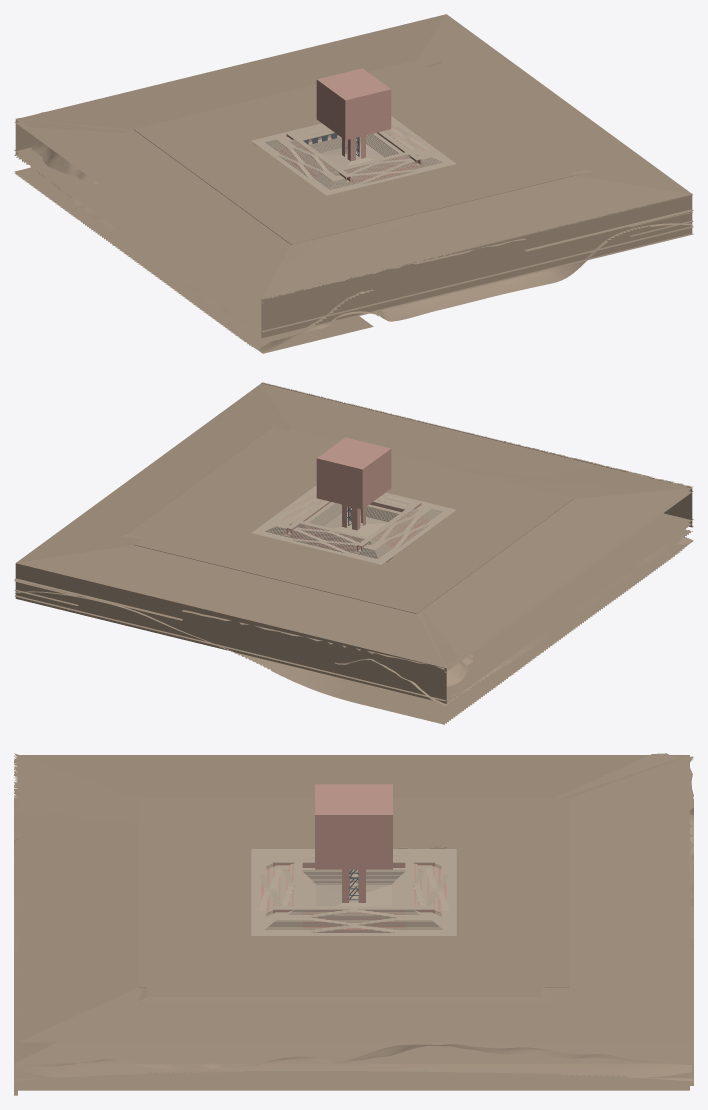
The model's file is museum-study-3.glb.
3 views of the same model, one above another, from view 1: azimuth 30°, elevation 25°; view 2: azimuth 150°, elevation 25°; view 3: azimuth 270°, elevation 25° (orthographic). The views are drawn at different scales.
Visible parts, largest first — view 1: ground:Landscape, project:Stone, project:Warm plaster; view 2: ground:Landscape, project:Stone, project:Warm plaster; view 3: ground:Landscape, project:Stone, project:Warm plaster.
Boxes of the visible parts, x1,y1,x2,y2 form: ground:Landscape: (14, 14, 693, 353); project:Stone: (251, 116, 456, 195); project:Warm plaster: (279, 68, 427, 183); ground:Landscape: (14, 382, 693, 724); project:Stone: (252, 485, 456, 564); project:Warm plaster: (280, 437, 428, 552); ground:Landscape: (14, 753, 693, 1095); project:Stone: (251, 849, 456, 935); project:Warm plaster: (261, 784, 446, 932).
Size of the model in its own units: 172 by 50.33 by 172.
